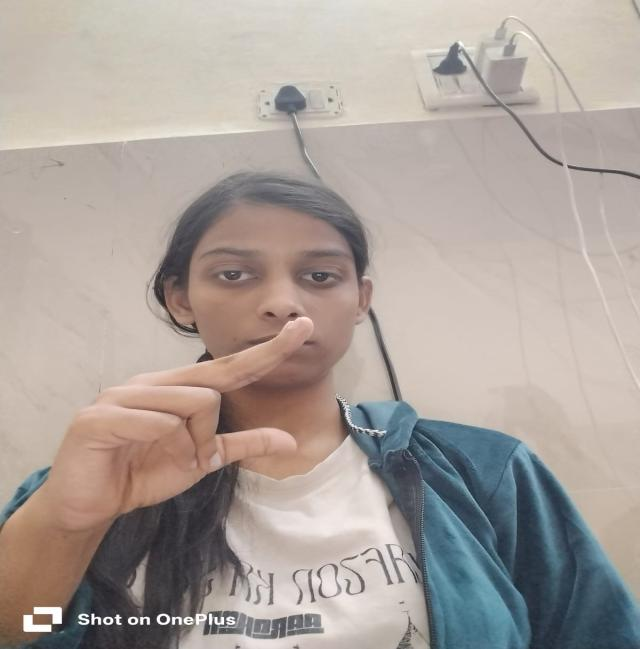No: (42, 301, 330, 523)
